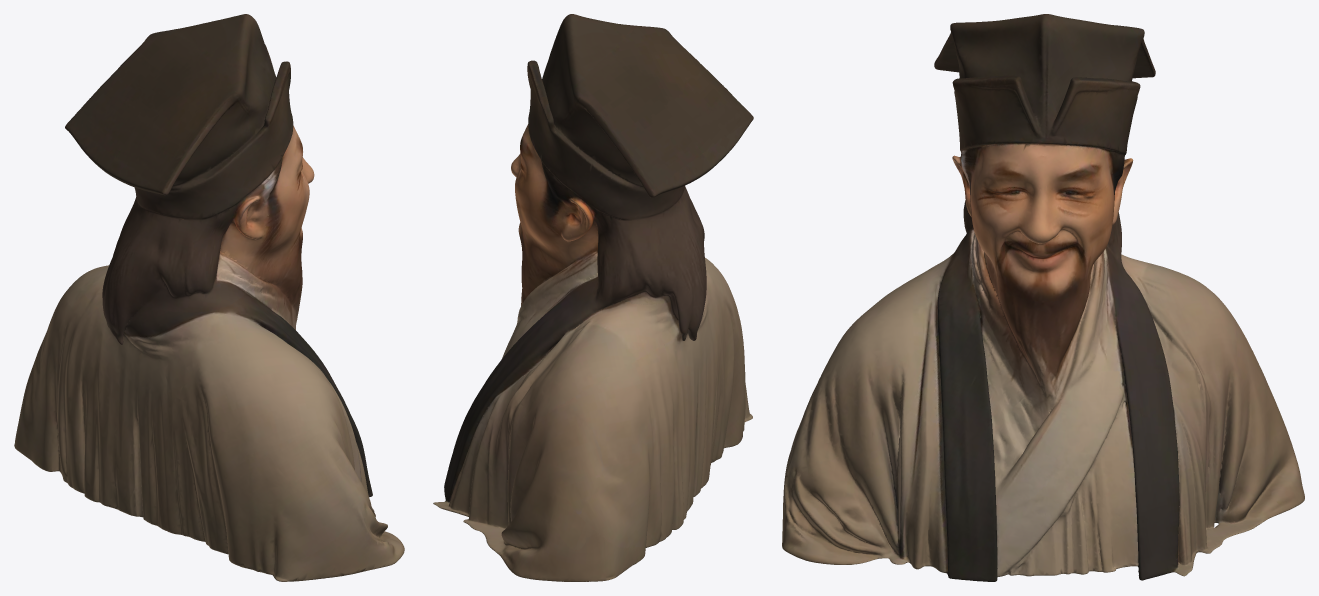
Rendered from su-shi.glb.
3 renders of one model, left to right at view 1: azimuth 30°, elevation 25°; view 2: azimuth 150°, elevation 25°; view 3: azimuth 270°, elevation 25°, orthographic. The views are drawn at different scales.
Visible parts, largest first — view 1: tripo_node_fe2cc2b8-8858-4aaf-9e69-71dac992b20a; view 2: tripo_node_fe2cc2b8-8858-4aaf-9e69-71dac992b20a; view 3: tripo_node_fe2cc2b8-8858-4aaf-9e69-71dac992b20a.
Part boxes in pixels (x1=…): tripo_node_fe2cc2b8-8858-4aaf-9e69-71dac992b20a: x1=14, y1=14, x2=404, y2=581; tripo_node_fe2cc2b8-8858-4aaf-9e69-71dac992b20a: x1=433, y1=14, x2=753, y2=581; tripo_node_fe2cc2b8-8858-4aaf-9e69-71dac992b20a: x1=782, y1=14, x2=1304, y2=581.
Bounding box in the file's own units: 0.5128 × 1 × 0.9112.
1 material, 1 textured.
